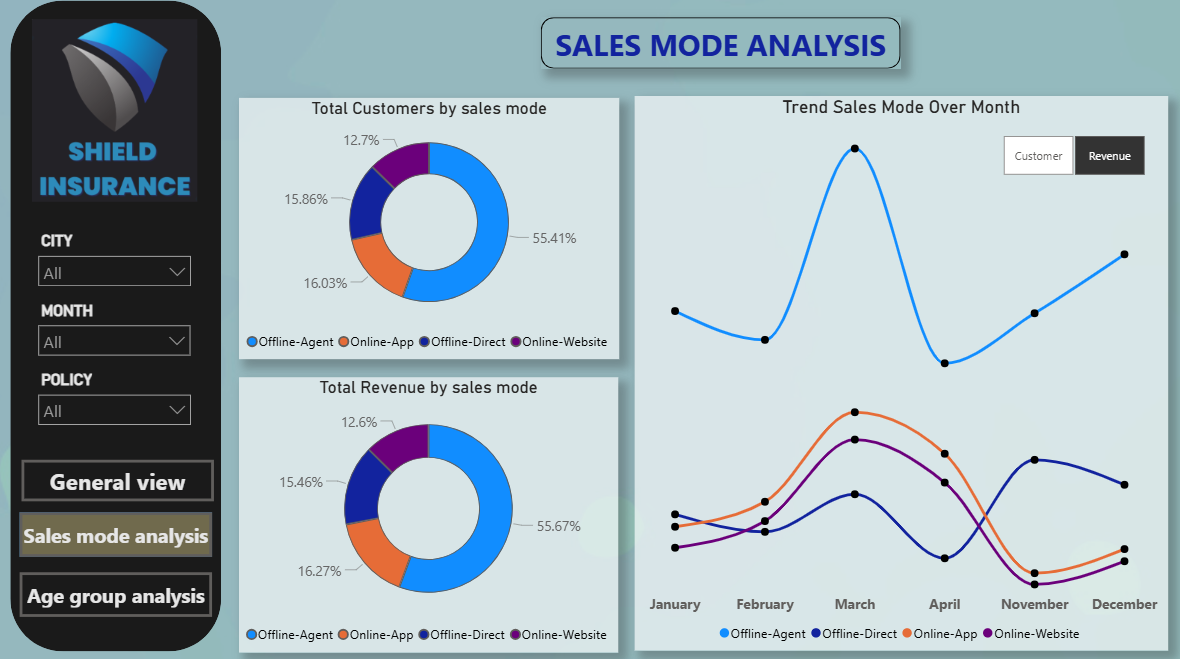

The page's visual inventory and layout, read from the dashboard file:
{"tool":"powerbi","page":{"name":"Sales Mode Analysis","canvas":[1280,720],"ordinal":5},"visuals":[{"type":"textbox","box":[581.3,29.1,385.4,53.4],"z":0},{"type":"shape","box":[11.5,9.9,226,697.7],"z":1000},{"type":"image","box":[32.4,29.1,183,195.9],"z":2000},{"type":"slicer","fields":{"Values":["dim_policies.policy_id"]},"box":[32.3,401.5,183.1,73.8],"z":3000},{"type":"slicer","fields":{"Values":["dim_date.date.Variation.Date Hierarchy.Month"]},"box":[32.4,328.2,183,74.5],"z":4000},{"type":"slicer","fields":{"Values":["dim_customer.city"]},"box":[32.3,253.8,183.1,73.8],"z":5000},{"type":"donutChart","title":"Total Customers by sales mode","fields":{"Category":["fact_premiums.sales_mode"],"Y":["Measure.Customer % by Sales Mode"]},"box":[256.9,113.8,407.7,280],"z":6000},{"type":"donutChart","title":"Total Revenue by sales mode","fields":{"Category":["fact_premiums.sales_mode"],"Y":["Measure.Revenue % by Sales Mode"]},"box":[257.5,412.9,406.4,294.7],"z":7000},{"type":"lineChart","title":"Trend Sales Mode Over Month","fields":{"Series":["fact_premiums.sales_mode"],"Category":["dim_date.date.Variation.Date Hierarchy.Month"],"Y":["Measure.Selected Metric Value"]},"box":[680.1,113.3,571.6,594.3],"z":8000},{"type":"slicer","fields":{"Values":["Metric Selection.Metric"]},"box":[1050.9,149,200.8,55.1],"z":9000},{"type":"shape","box":[21.4,557.5,206.2,47.8],"z":10000},{"type":"actionButton","box":[24.7,501.4,206.2,44.5],"z":11000},{"type":"actionButton","box":[21.4,557.5,206.2,47.8],"z":12000},{"type":"actionButton","box":[21.4,621.9,206.2,47.8],"z":13000},{"type":"shape","box":[581.3,27.5,385.4,55.1],"z":14000}]}

Visuals, with their boxes in screenshot pixels (x1, y1, x2, y2), scaled from the page's 1280x720 canvas onto the 1180x659 screenshot:
textbox: <bbox>536, 27, 891, 76</bbox>
shape: <bbox>11, 9, 219, 648</bbox>
image: <bbox>30, 27, 199, 206</bbox>
slicer - dim_policies.policy_id: <bbox>30, 367, 199, 435</bbox>
slicer - dim_date.date.Variation.Date Hierarchy.Month: <bbox>30, 300, 199, 369</bbox>
slicer - dim_customer.city: <bbox>30, 232, 199, 300</bbox>
"Total Customers by sales mode" donutChart: <bbox>237, 104, 613, 360</bbox>
"Total Revenue by sales mode" donutChart: <bbox>237, 378, 612, 648</bbox>
"Trend Sales Mode Over Month" lineChart: <bbox>627, 104, 1154, 648</bbox>
slicer - Metric Selection.Metric: <bbox>969, 136, 1154, 187</bbox>
shape: <bbox>20, 510, 210, 554</bbox>
actionButton: <bbox>23, 459, 213, 500</bbox>
actionButton: <bbox>20, 510, 210, 554</bbox>
actionButton: <bbox>20, 569, 210, 613</bbox>
shape: <bbox>536, 25, 891, 76</bbox>
